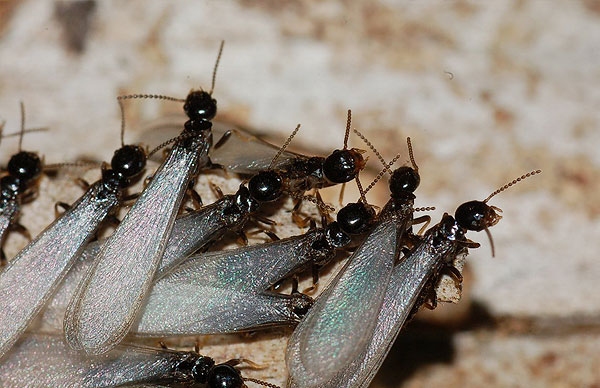flying termite: (83, 55, 235, 354), (305, 131, 421, 388)
